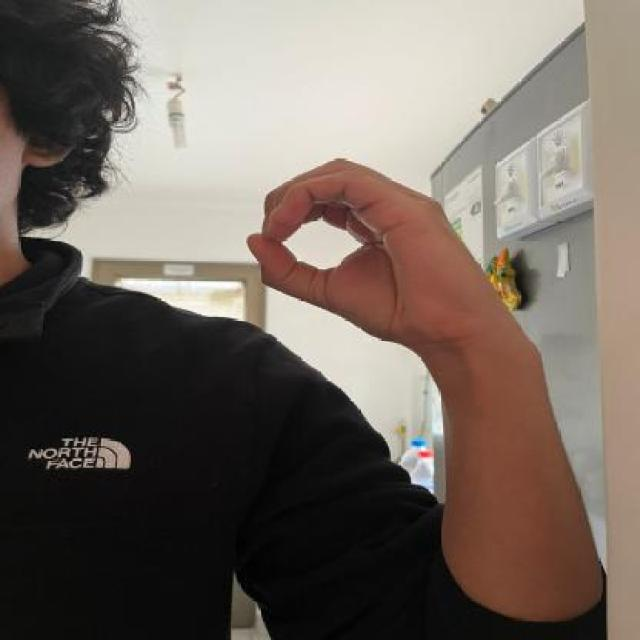O: (238, 140, 482, 349)
